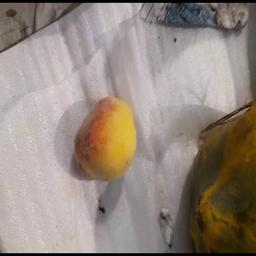Peach Semifresh: (71, 81, 143, 191)
